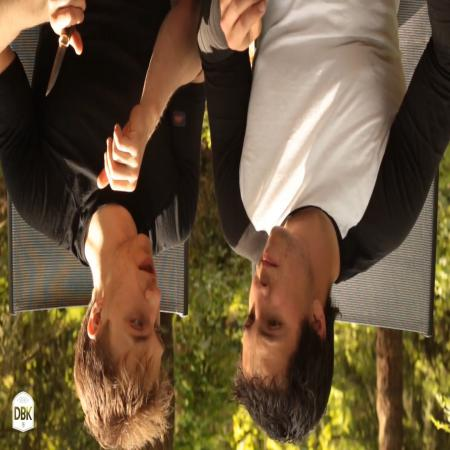long weapon: (40, 1, 87, 108)
